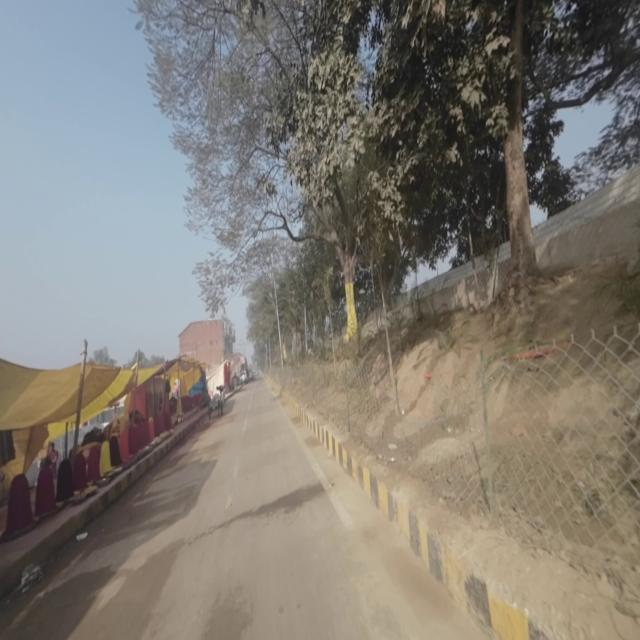Garbage: (19, 562, 45, 594)
